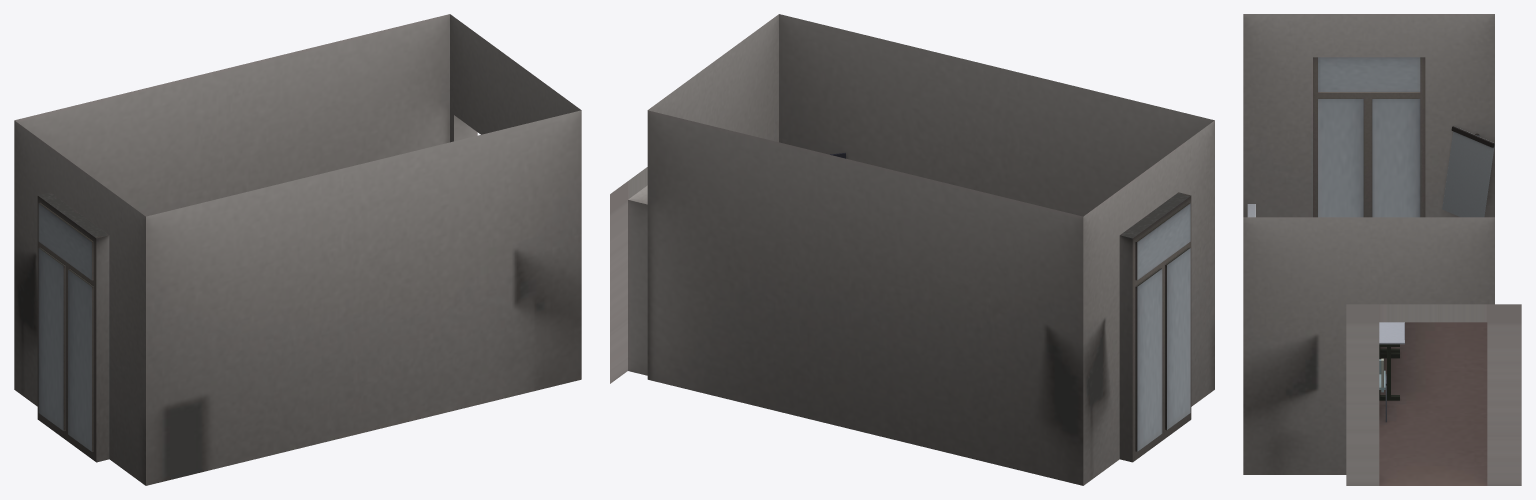
File: Konv.obj
3 renders of one model, left to right at view 1: azimuth 30°, elevation 25°; view 2: azimuth 150°, elevation 25°; view 3: azimuth 270°, elevation 25°, orthographic. The views are drawn at different scales.
Parts seen in each view (by area): view 1: Konferenzraum, Fenster; view 2: Konferenzraum, Fenster; view 3: Konferenzraum, Fenster, Box002, Box005nn.
Boxes of the visible parts, box(x1,y1,x2,y2) form: Konferenzraum: box(14, 14, 581, 485); Fenster: box(37, 196, 96, 461); Konferenzraum: box(610, 14, 1214, 485); Fenster: box(1132, 196, 1191, 461); Konferenzraum: box(1243, 14, 1521, 485); Fenster: box(1313, 57, 1425, 217); Box002: box(1442, 126, 1494, 217); Box005nn: box(1379, 322, 1404, 400).
Bounding box in the file's own units: 6.2 × 3.37 × 3.29.
Materials: 1 (1 with a texture image).
